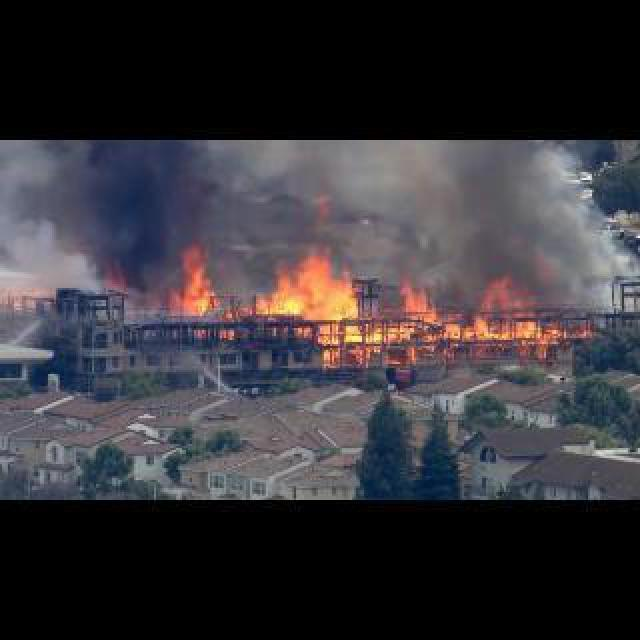Fire: (160, 260, 586, 360)
Smoke: (59, 132, 227, 288), (451, 139, 572, 308)
